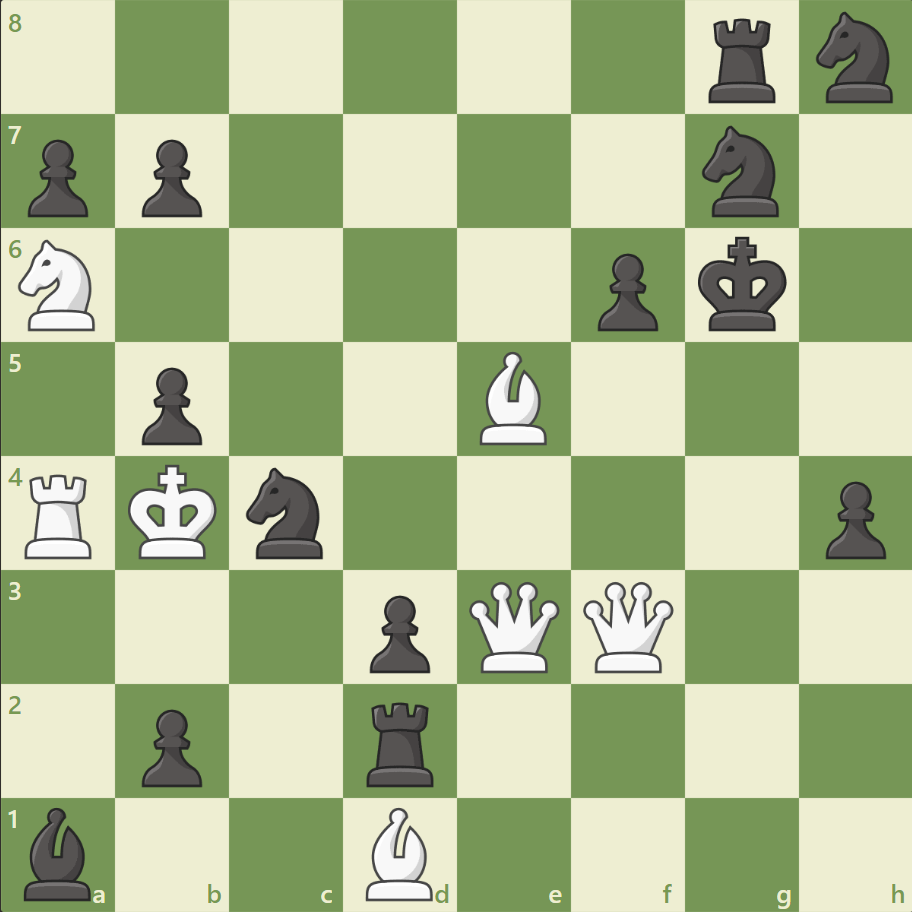B: (358, 801, 442, 904), (471, 347, 555, 449)
K: (124, 458, 224, 566)
N: (11, 234, 108, 337)
Q: (464, 576, 563, 676), (578, 576, 677, 676)
R: (19, 466, 102, 563)
b: (17, 801, 101, 904)
k: (692, 231, 792, 339)
n: (806, 7, 903, 110), (238, 461, 335, 564), (692, 121, 789, 223)
p: (20, 132, 95, 223), (133, 132, 208, 223), (133, 359, 208, 450), (133, 700, 208, 791), (588, 246, 662, 337), (815, 473, 889, 564), (361, 586, 435, 677)
r: (700, 12, 783, 109), (360, 693, 442, 790)
